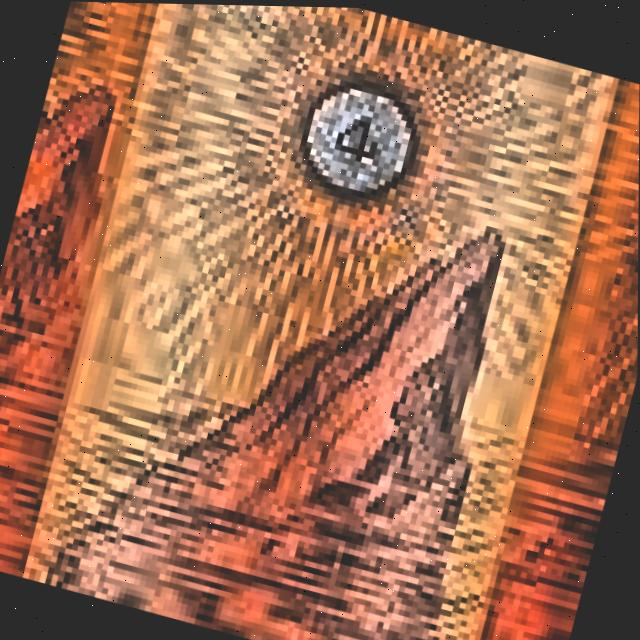metal: (0, 0, 640, 640), (0, 0, 253, 598), (399, 56, 640, 640)
